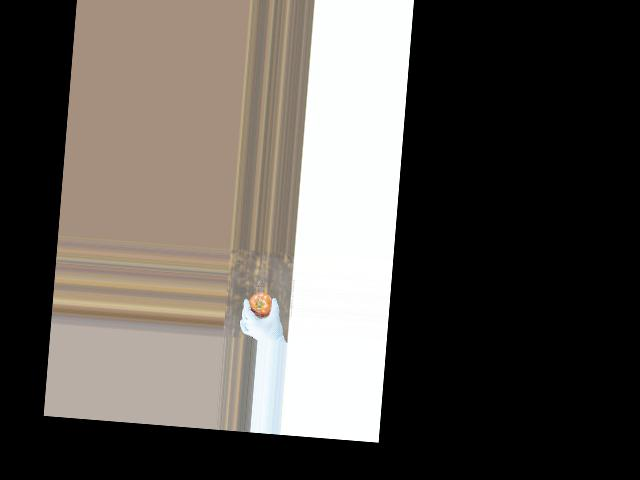tomato: (248, 290, 272, 317)
